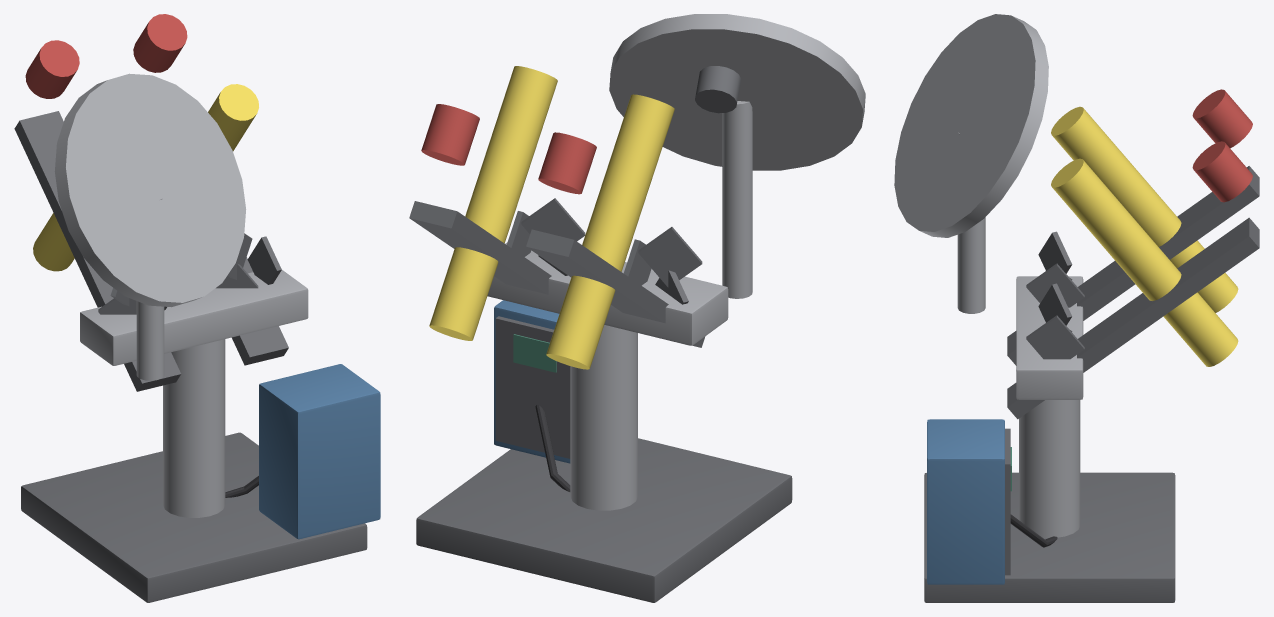
The model's file is DD_samsite.fbx.
3 views of the same model, side by side, from view 1: azimuth 30°, elevation 25°; view 2: azimuth 150°, elevation 25°; view 3: azimuth 270°, elevation 25° (orthographic). The views are drawn at different scales.
Visible parts, largest first — view 1: DD_samsite; view 2: DD_samsite; view 3: DD_samsite.
Boxes of the visible parts, box(x1,y1,x2,y2) form: DD_samsite: box(14, 14, 380, 602); DD_samsite: box(409, 14, 865, 602); DD_samsite: box(894, 14, 1259, 602).
Size of the model in its own units: 1.26 by 1.89 by 1.31.
